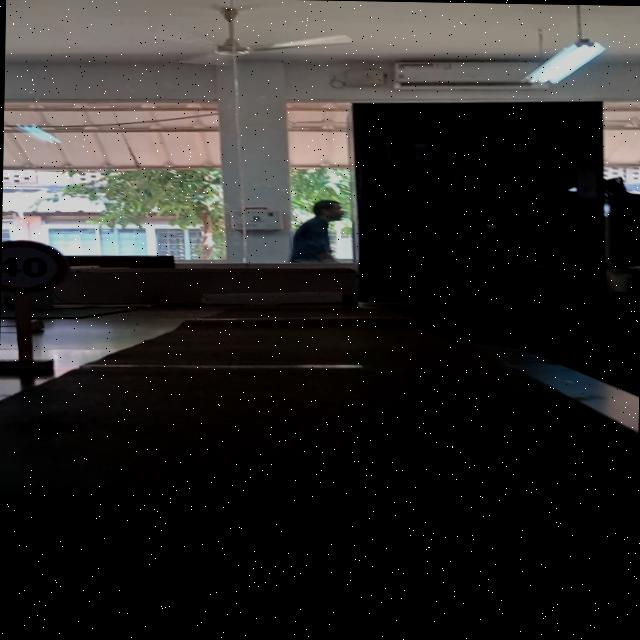Speed40: (0, 237, 70, 295)
